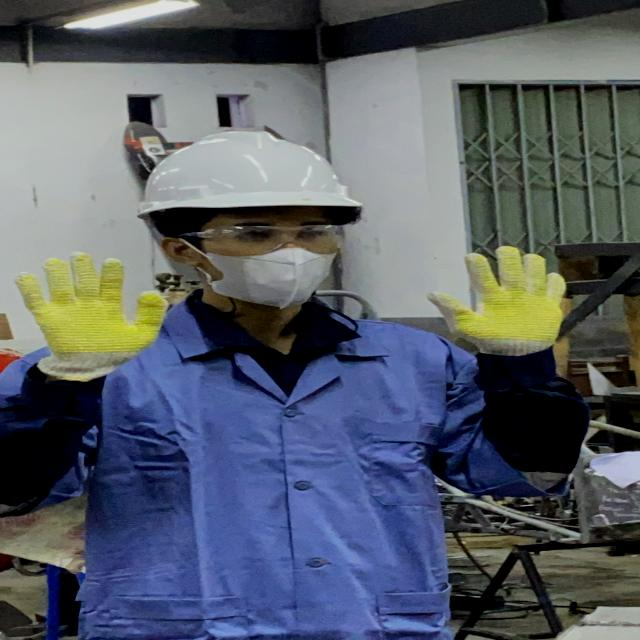face_mask: (194, 215, 350, 302)
glasses: (166, 222, 354, 254)
hand_glove: (0, 247, 182, 370), (410, 244, 582, 364)
head_helmet: (128, 127, 369, 213)
person: (0, 139, 640, 640)
